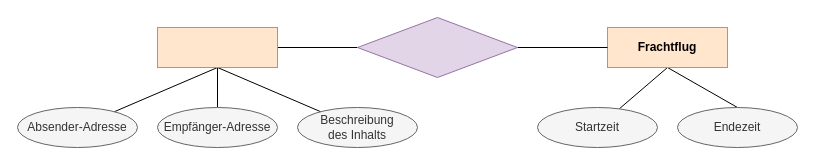
Some shapes in this 815 by 165 pixel diagram are drawn without their labels. Here are the shapes that lost their labels. From the top down, the centre of each, then its label:
At point (217, 47): "Lieferung".
At point (437, 47): "Transportierte Lieferungen".
